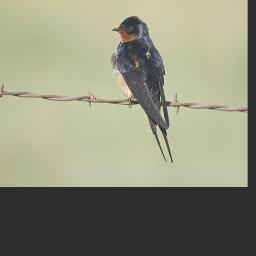Swallow: (111, 14, 177, 164)
